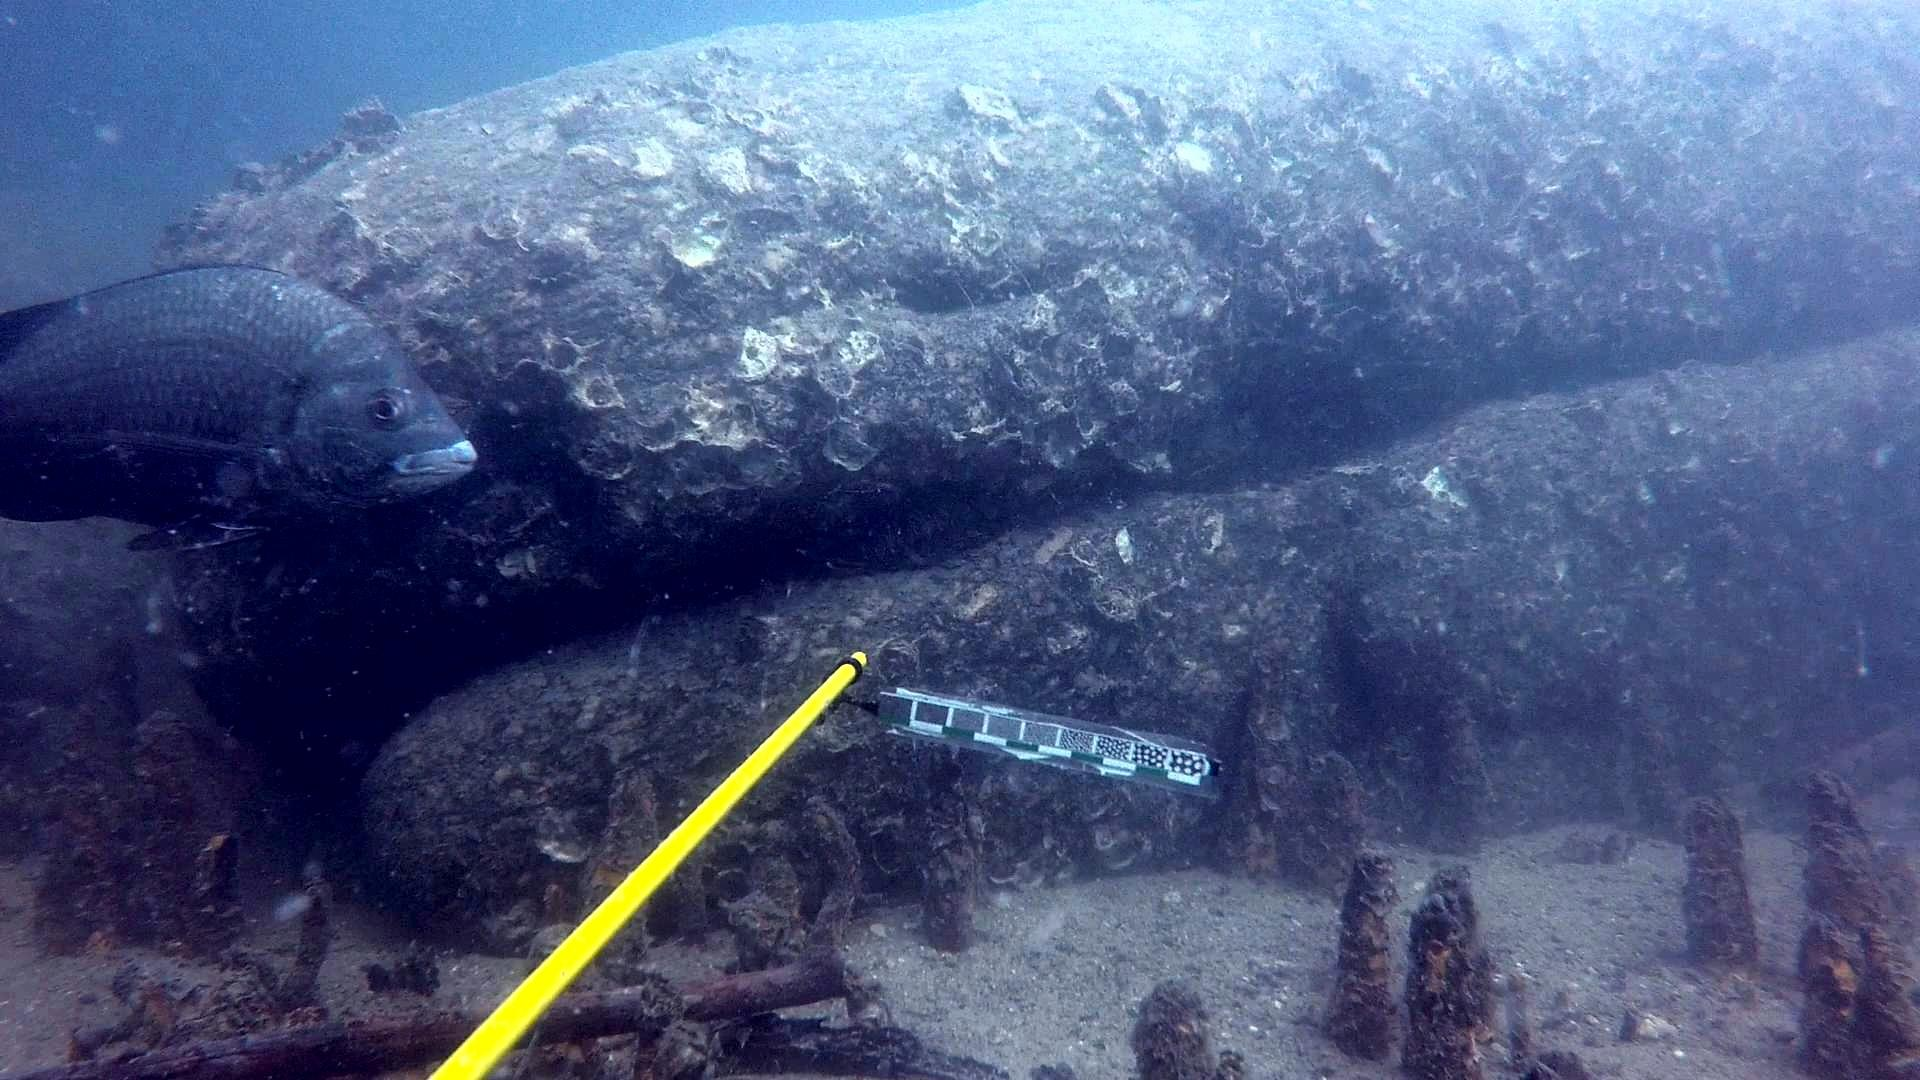acanthopagrus palmaris: (0, 255, 485, 565)
